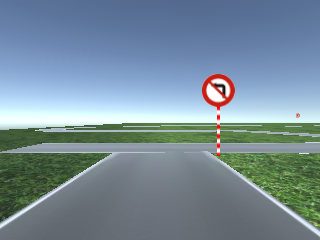0: (1, 184, 320, 239)
NoLeft: (201, 73, 236, 107)
